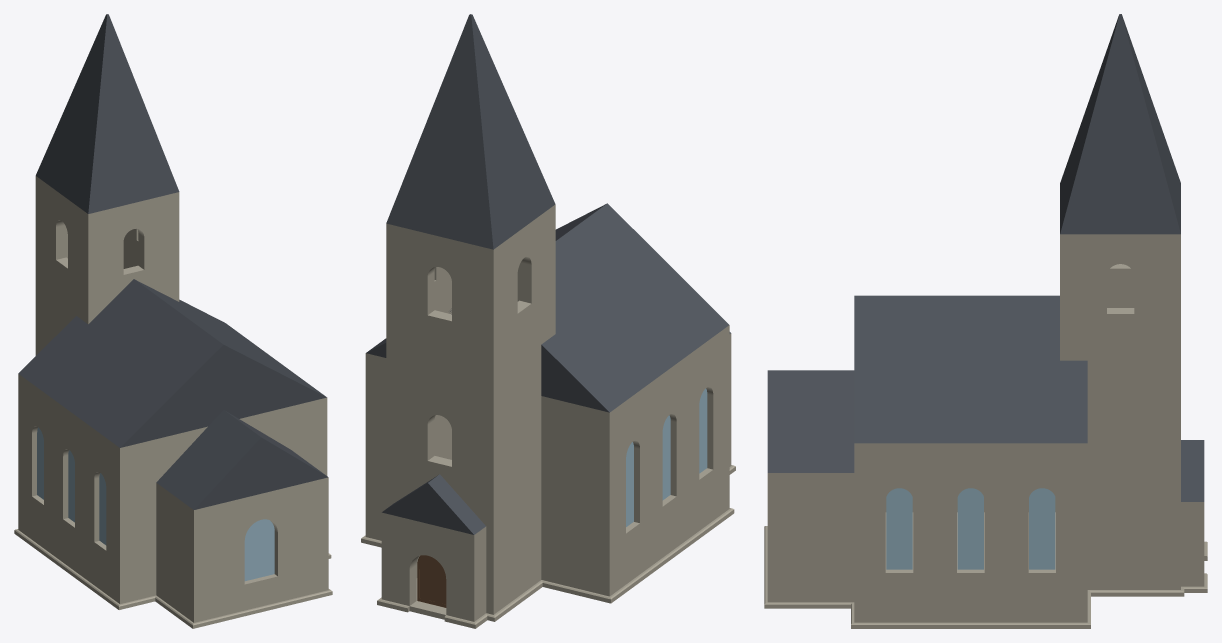
3 views of the same model, side by side, from view 1: azimuth 30°, elevation 25°; view 2: azimuth 150°, elevation 25°; view 3: azimuth 270°, elevation 25° (orthographic). The views are drawn at different scales.
Parts seen in each view (by area): view 1: body_stone, roof_slate, glass_glass (×4), trim_stone; view 2: body_stone, roof_slate, trim_stone, glass_glass (×3), door_timber; view 3: body_stone, roof_slate, glass_glass (×3), trim_stone.
Part boxes in pixels (x1,y1,x2,y2): body_stone: (18, 176, 328, 622); roof_slate: (18, 14, 327, 509); glass_glass (×4): (37, 427, 274, 581); trim_stone: (14, 529, 332, 628); body_stone: (365, 204, 731, 621); roof_slate: (366, 14, 730, 534); trim_stone: (361, 465, 735, 628); glass_glass (×3): (626, 388, 707, 526); door_timber: (417, 555, 446, 607); body_stone: (767, 234, 1204, 622); roof_slate: (767, 14, 1204, 501); glass_glass (×3): (886, 488, 1055, 569); trim_stone: (764, 526, 1207, 628).
Size of what is drawn, in the model's own units: 10.24 by 22.3 by 16.14.
